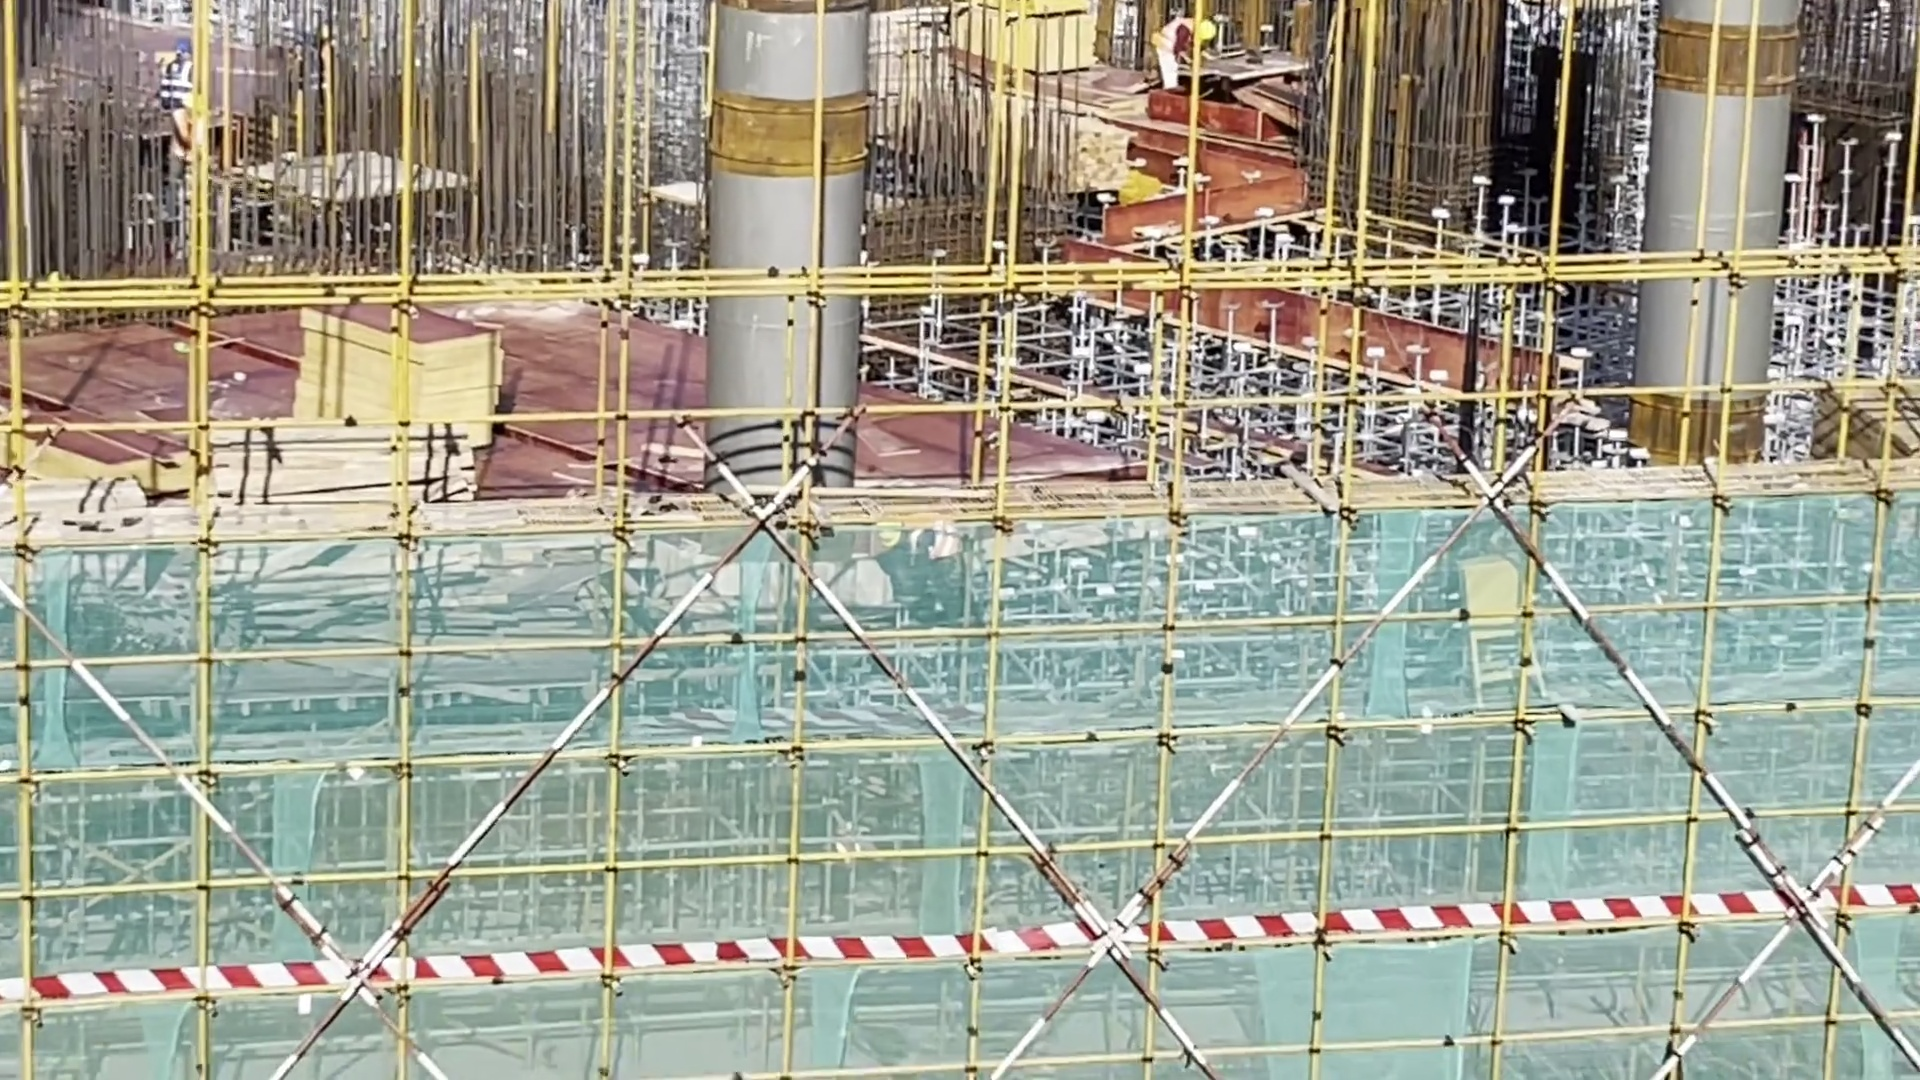ebox: (1438, 551, 1569, 702)
helmet: (172, 35, 193, 58), (180, 91, 201, 113), (1197, 15, 1218, 37)
person: (1147, 6, 1219, 85), (167, 94, 200, 184), (155, 30, 202, 95)
